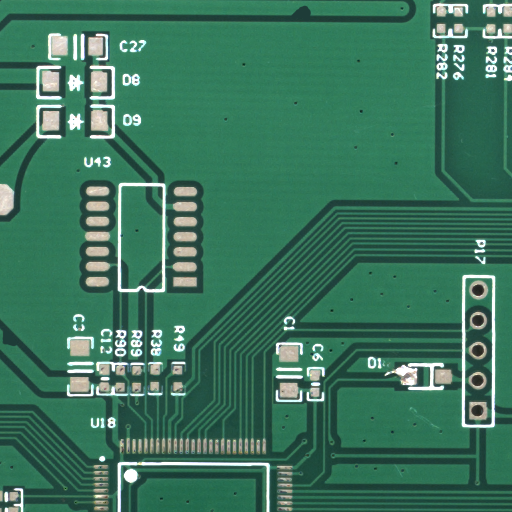Mouse_bite: (302, 12, 338, 30), (9, 337, 28, 362)
